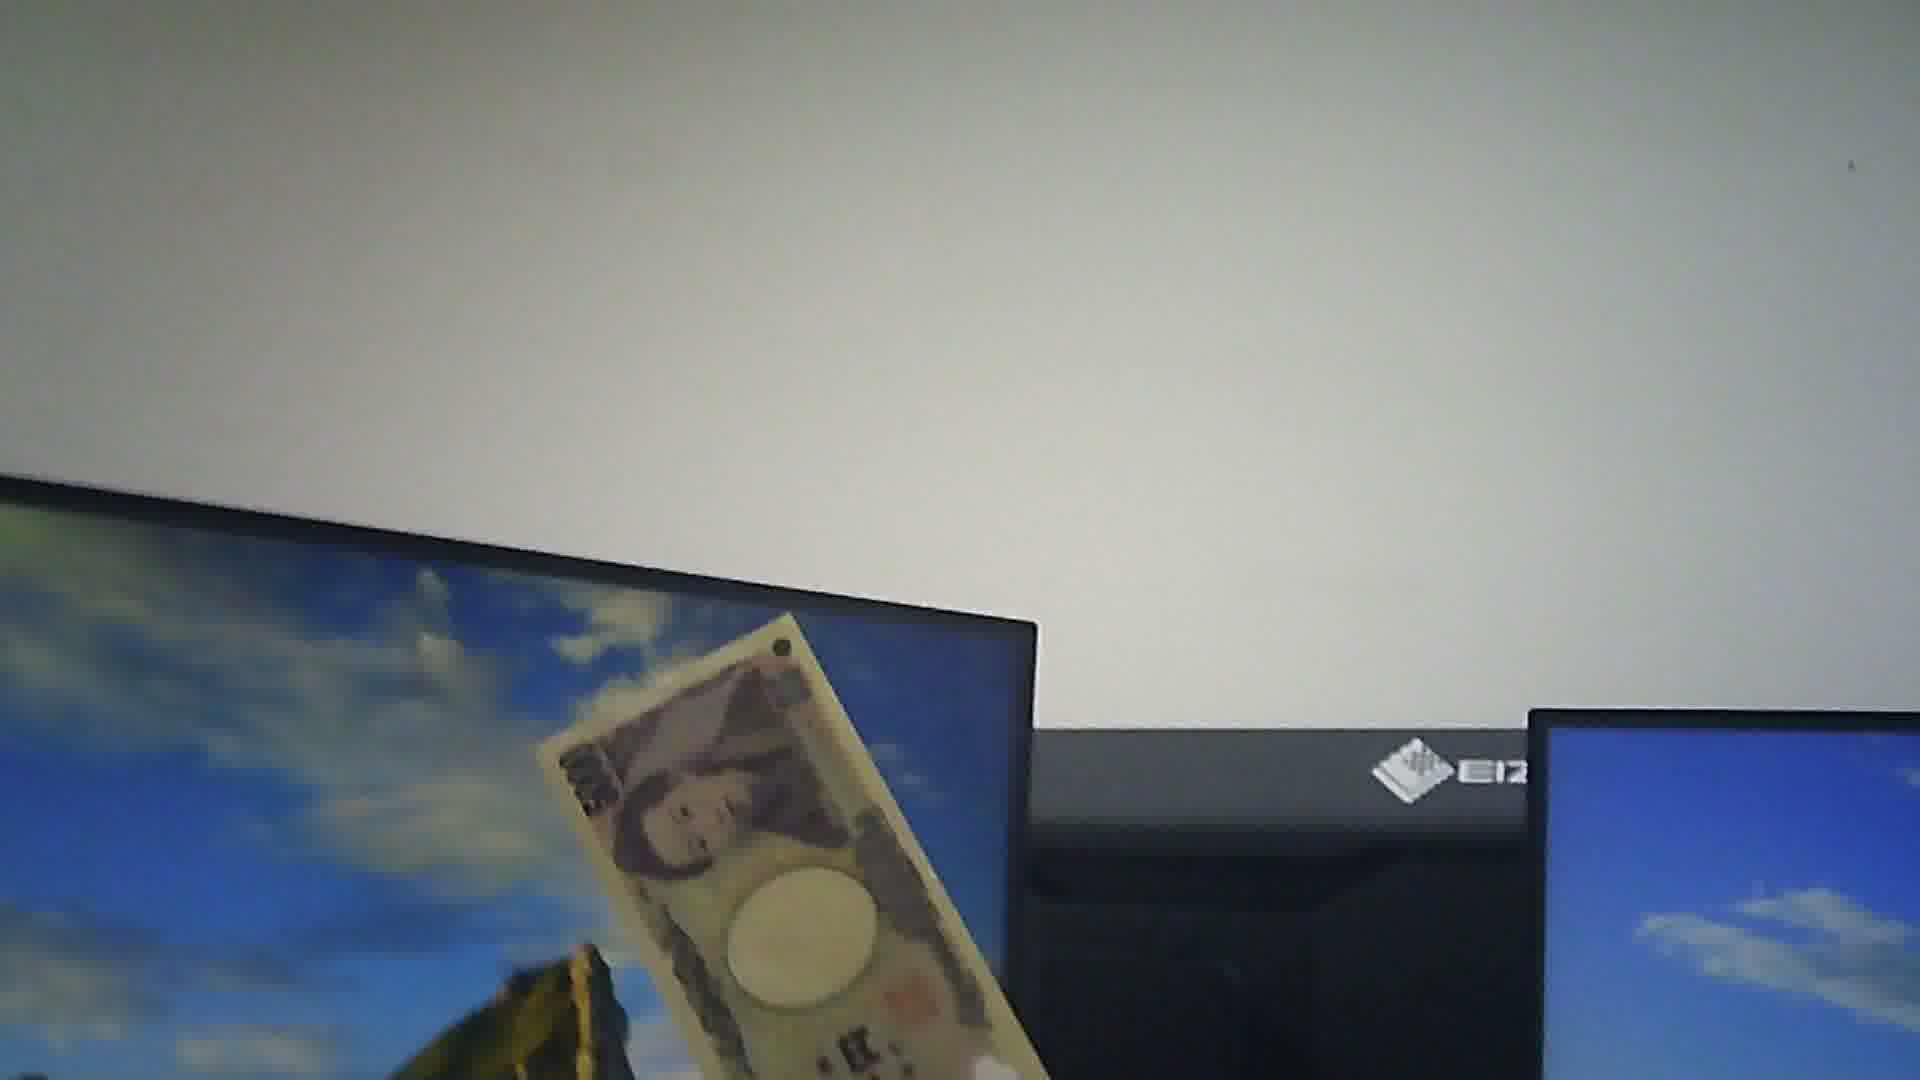5,000 Yen: (531, 613, 1021, 1079)
